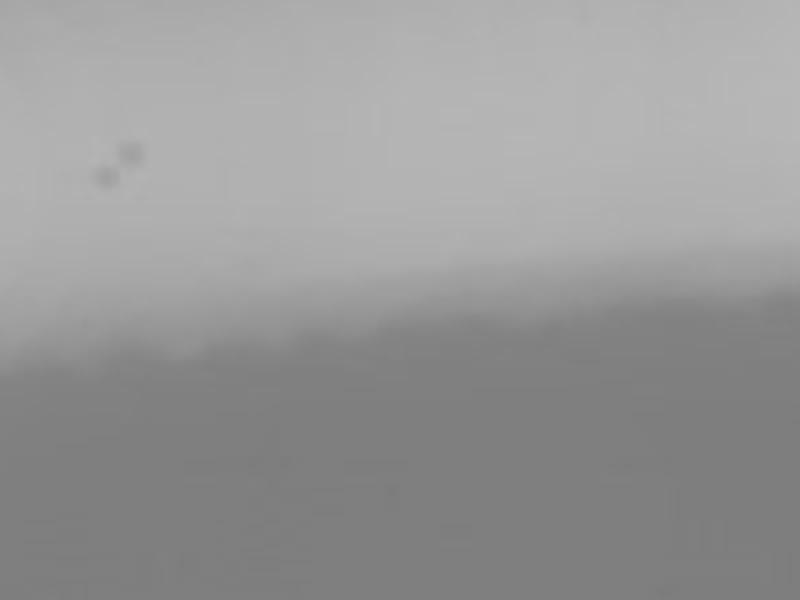defect: (115, 140, 147, 168), (90, 163, 119, 188)
